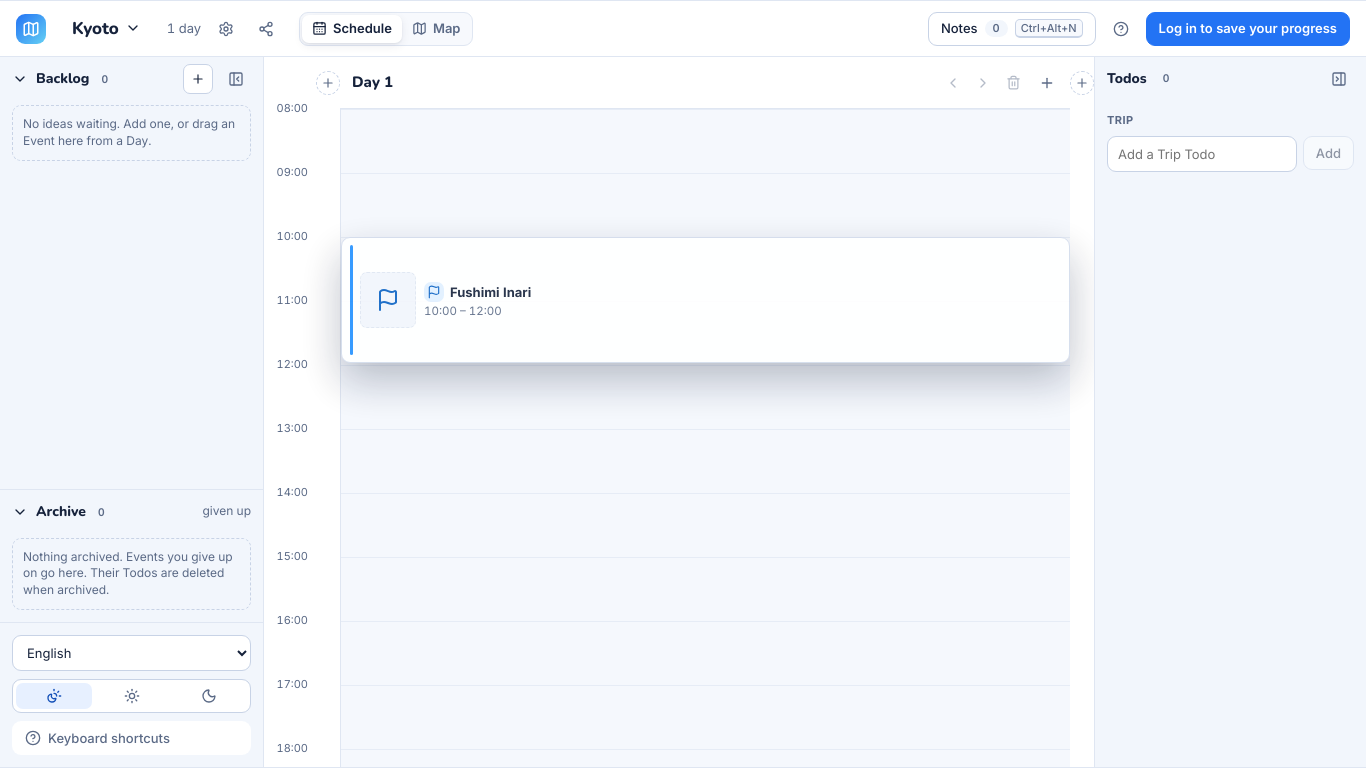
one Trip at a time › the logo › goes to the Landing page
The width and height of the screenshot is (1366, 768).
Expected: the text "Fushimi Inari" is shown, x1=450 y1=284 x2=531 y2=300
Click the link named "Home".
click(31, 28)  # box x1=16 y1=14 x2=46 y2=44
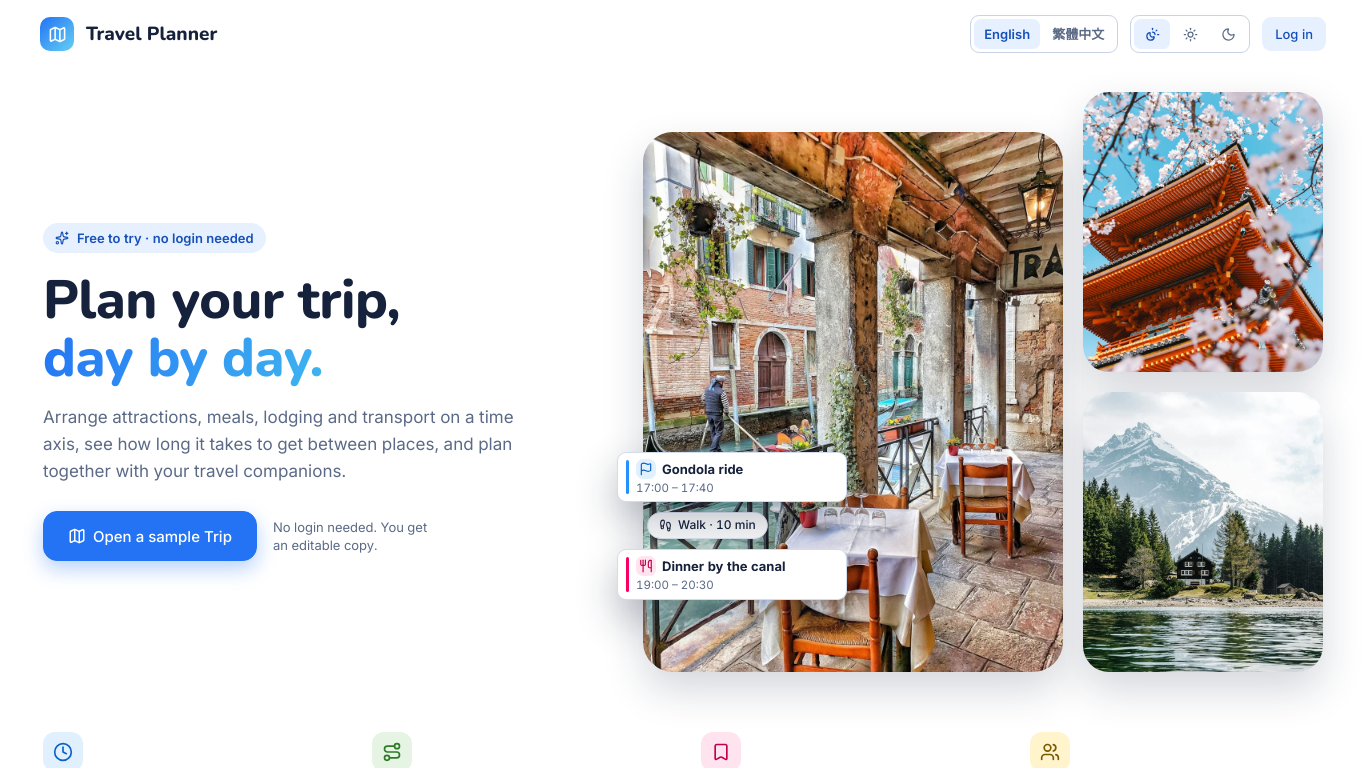
Result: the button "Fushimi Inari" is gone
